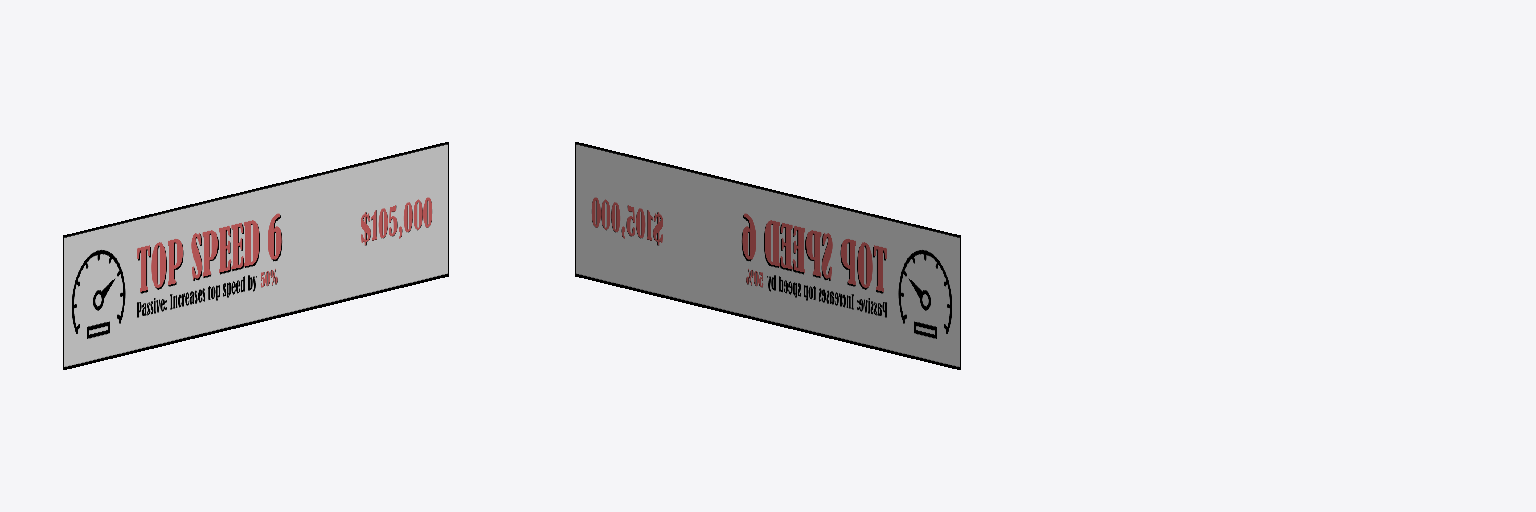
3 renders of one model, left to right at view 1: azimuth 30°, elevation 25°; view 2: azimuth 150°, elevation 25°; view 3: azimuth 270°, elevation 25°, orthographic.
Visible parts, largest first — view 1: Plane.003; view 2: Plane.003; view 3: none.
Boxes of the visible parts, x1,y1,x2,y2 form: Plane.003: [63, 142, 448, 369]; Plane.003: [575, 142, 960, 369].
Size of the model in its own units: 0.9 by 0.3 by 0.
1 materials, 1 textured.